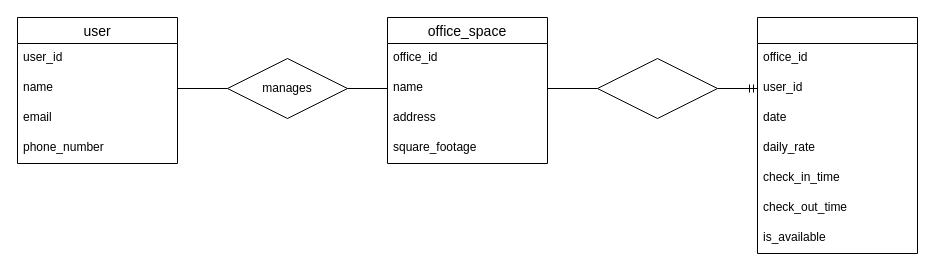
The diagram is 935 pixels wide and 274 high, and some of its shapes have lost their labels. The box of each missing label's shape, as (x1, y1, x2, y2) in pixels:
availability: (756, 16, 918, 254)
has: (596, 58, 718, 118)
